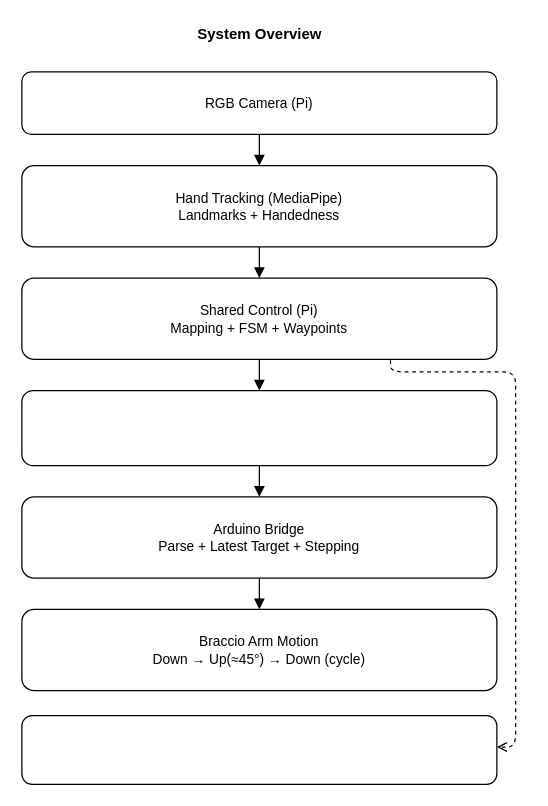
Some shapes in this 548 by 806 pixel diagram are drawn without their labels. The shapes that lost their labels are listed below. From the top down, each one's centre as x and y in pixels, then its label:
(x=259, y=427): Serial Command CMD,m1,m2,m3,m4,m5,m6
(x=259, y=749): Safety: Limits + Rate limit + Hand-lost failsafe
